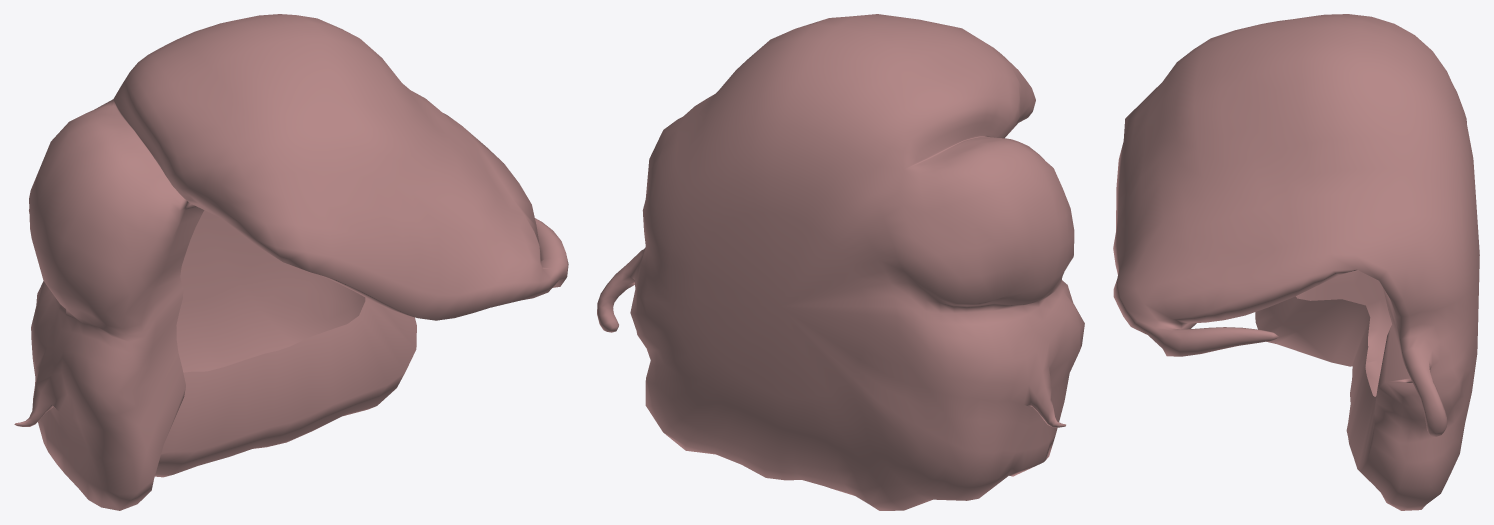
The model's file is Girl Hair 07.glb.
The picture shows the model from 3 angles, left to right: view 1: azimuth 30°, elevation 25°; view 2: azimuth 150°, elevation 25°; view 3: azimuth 270°, elevation 25°; orthographic projection. The views are drawn at different scales.
Parts seen in each view (by area): view 1: GirlHair7; view 2: GirlHair7; view 3: GirlHair7.
Part boxes in pixels (left/top/right/bottom): GirlHair7: left=14, top=14, right=568, bottom=510; GirlHair7: left=597, top=14, right=1084, bottom=510; GirlHair7: left=1113, top=14, right=1479, bottom=510.
Size of the model in its own units: 0.0121 by 0.0115 by 0.00883.
